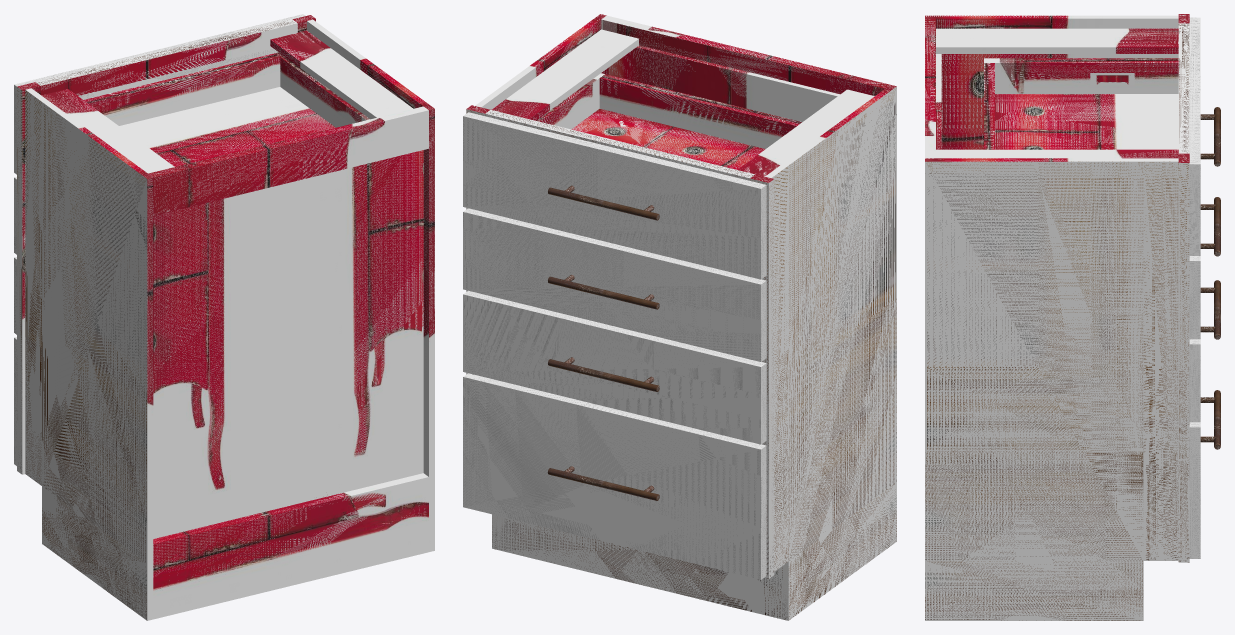
3 views of the same model, side by side, from view 1: azimuth 30°, elevation 25°; view 2: azimuth 150°, elevation 25°; view 3: azimuth 270°, elevation 25° (orthographic). The views are drawn at different scales.
Parts seen in each view (by area): view 1: mesh4_mesh4-geometry, mesh7_mesh7-geometry, mesh12_mesh12-geometry, mesh3_mesh3-geometry, mesh19_mesh19-geometry, mesh6_mesh6-geometry, mesh8_mesh8-geometry, mesh17_mesh17-geometry, mesh5_mesh5-geometry, mesh10_mesh10-geometry, mesh14_mesh14-geometry, mesh2_mesh2-geometry (+3 smaller); view 2: mesh24_mesh24-geometry, mesh7_mesh7-geometry, mesh13_mesh13-geometry, mesh4_mesh4-geometry, mesh8_mesh8-geometry, mesh17_mesh17-geometry, mesh6_mesh6-geometry, mesh3_mesh3-geometry, mesh14_mesh14-geometry, mesh19_mesh19-geometry, mesh2_mesh2-geometry, mesh23_mesh23-geometry (+4 smaller); view 3: mesh10_mesh10-geometry, mesh9_mesh9-geometry, mesh11_mesh11-geometry, mesh19_mesh19-geometry, mesh7_mesh7-geometry, mesh24_mesh24-geometry, mesh15_mesh15-geometry, mesh16_mesh16-geometry, mesh2_mesh2-geometry, mesh14_mesh14-geometry, mesh23_mesh23-geometry, mesh5_mesh5-geometry (+5 smaller).
Part boxes in pixels (left/top/right/bottom): mesh4_mesh4-geometry: left=153, top=150, right=423, bottom=538; mesh7_mesh7-geometry: left=42, top=100, right=153, bottom=563; mesh12_mesh12-geometry: left=153, top=473, right=428, bottom=619; mesh3_mesh3-geometry: left=148, top=106, right=428, bottom=215; mesh19_mesh19-geometry: left=119, top=87, right=335, bottom=166; mesh6_mesh6-geometry: left=25, top=88, right=47, bottom=485; mesh8_mesh8-geometry: left=42, top=486, right=153, bottom=620; mesh17_mesh17-geometry: left=84, top=53, right=280, bottom=125; mesh5_mesh5-geometry: left=35, top=19, right=297, bottom=95; mesh10_mesh10-geometry: left=323, top=32, right=434, bottom=494; mesh14_mesh14-geometry: left=270, top=30, right=413, bottom=119; mesh2_mesh2-geometry: left=17, top=15, right=315, bottom=474; mesh24_mesh24-geometry: left=463, top=112, right=766, bottom=579; mesh7_mesh7-geometry: left=783, top=85, right=896, bottom=560; mesh13_mesh13-geometry: left=498, top=516, right=782, bottom=619; mesh4_mesh4-geometry: left=601, top=45, right=839, bottom=122; mesh8_mesh8-geometry: left=782, top=482, right=896, bottom=620; mesh17_mesh17-geometry: left=599, top=74, right=801, bottom=148; mesh6_mesh6-geometry: left=765, top=164, right=788, bottom=571; mesh3_mesh3-geometry: left=601, top=15, right=889, bottom=95; mesh14_mesh14-geometry: left=491, top=29, right=638, bottom=120; mesh19_mesh19-geometry: left=571, top=108, right=765, bottom=169; mesh2_mesh2-geometry: left=466, top=105, right=774, bottom=578; mesh23_mesh23-geometry: left=547, top=187, right=659, bottom=500; mesh10_mesh10-geometry: left=925, top=158, right=1143, bottom=560; mesh9_mesh9-geometry: left=1143, top=158, right=1178, bottom=560; mesh11_mesh11-geometry: left=925, top=561, right=1143, bottom=620; mesh19_mesh19-geometry: left=995, top=94, right=1178, bottom=149; mesh7_mesh7-geometry: left=925, top=15, right=1143, bottom=149; mesh24_mesh24-geometry: left=1189, top=17, right=1200, bottom=558; mesh15_mesh15-geometry: left=936, top=28, right=1178, bottom=53; mesh16_mesh16-geometry: left=984, top=58, right=1178, bottom=93; mesh2_mesh2-geometry: left=1178, top=14, right=1189, bottom=562; mesh14_mesh14-geometry: left=936, top=149, right=1178, bottom=158; mesh23_mesh23-geometry: left=1214, top=107, right=1220, bottom=449; mesh5_mesh5-geometry: left=1178, top=23, right=1189, bottom=153.
Size of the model in its own units: 0.515 by 0.7404 by 0.4319.
